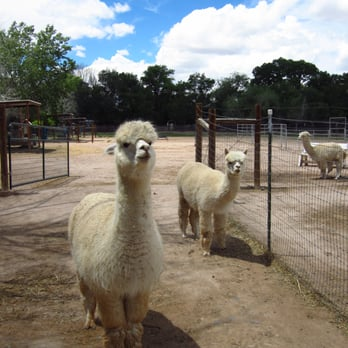alpaca: (68, 118, 165, 348), (176, 147, 250, 258), (297, 129, 346, 181)
